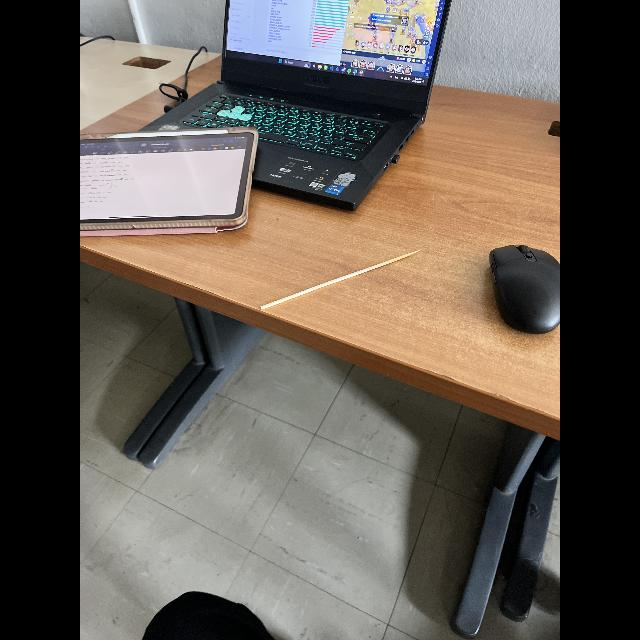stick: (242, 242, 432, 331)
